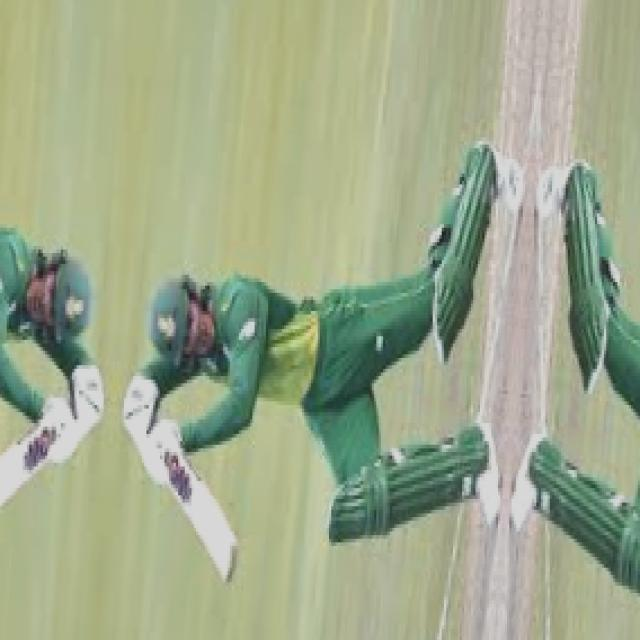bat: (159, 430, 239, 589)
toe: (217, 541, 239, 588)
